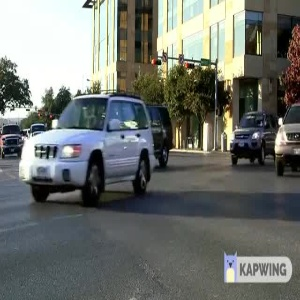suv: (16, 88, 155, 217), (218, 109, 280, 174)
